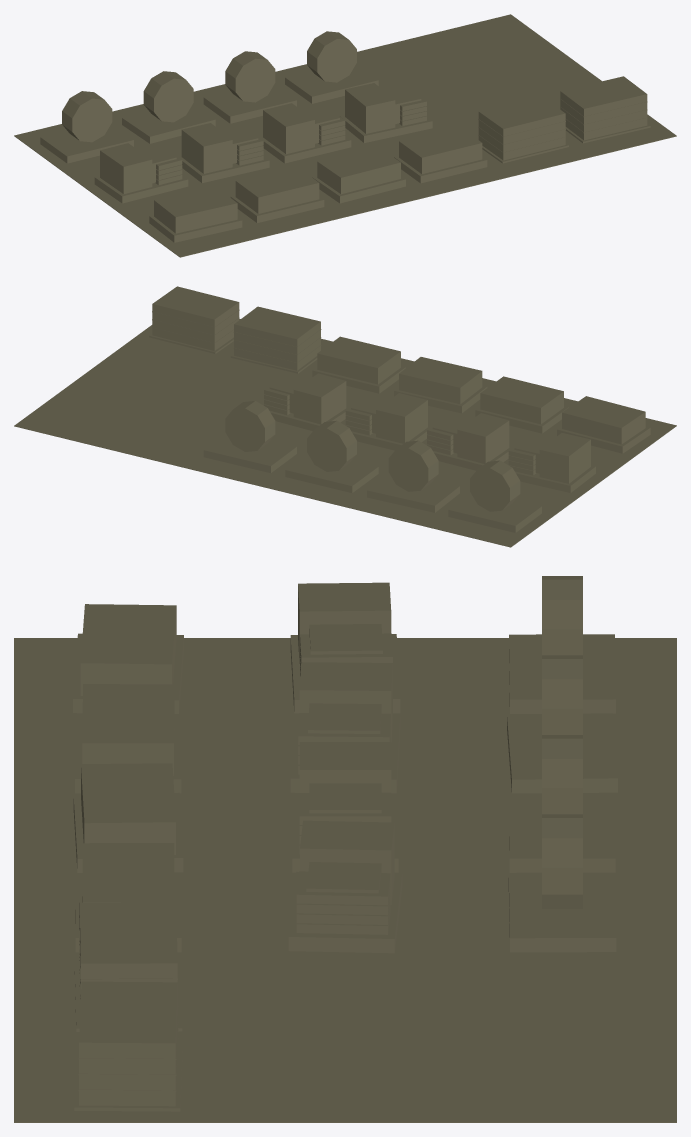
File: SM_AcopioMateriales_v4_Quemado_LOD0.fbx
The picture shows the model from 3 angles, top to bottom: view 1: azimuth 30°, elevation 25°; view 2: azimuth 150°, elevation 25°; view 3: azimuth 270°, elevation 25°; orthographic projection. The views are drawn at different scales.
Visible parts, largest first — view 1: SM_acopio_carga_v14_LOD0; view 2: SM_acopio_carga_v14_LOD0; view 3: SM_acopio_carga_v14_LOD0.
Boxes of the visible parts, x1,y1,x2,y2 form: SM_acopio_carga_v14_LOD0: (14, 14, 676, 257); SM_acopio_carga_v14_LOD0: (14, 286, 676, 547); SM_acopio_carga_v14_LOD0: (14, 576, 676, 1122).
Bounding box in the file's own units: 9.5 × 0.94 × 5.5.
